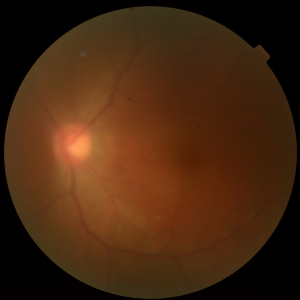cataract: (34, 101, 256, 214)
